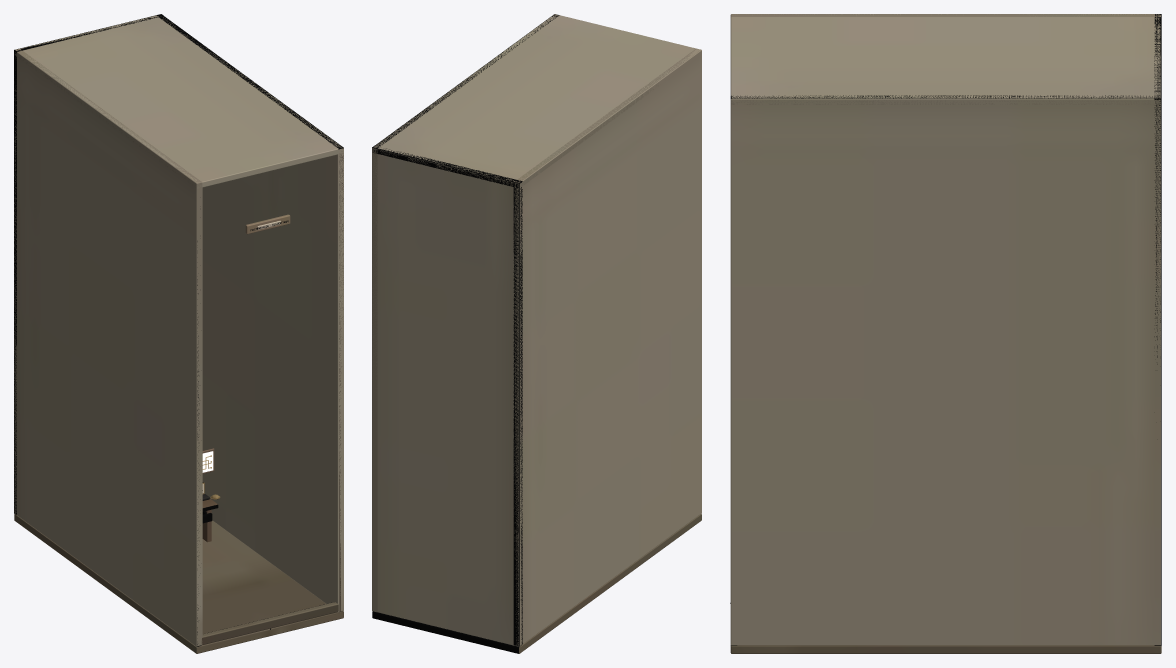
The model's file is exchange.glb.
3 renders of one model, left to right at view 1: azimuth 30°, elevation 25°; view 2: azimuth 150°, elevation 25°; view 3: azimuth 270°, elevation 25°, orthographic. The views are drawn at different scales.
Parts seen in each view (by area): view 1: exchange_envelope, maker_mark_plaque; view 2: exchange_envelope; view 3: exchange_envelope.
Part boxes in pixels (x1=…): exchange_envelope: x1=14, y1=14, x2=343, y2=653; maker_mark_plaque: x1=245, y1=214, x2=290, y2=234; exchange_envelope: x1=372, y1=14, x2=701, y2=653; exchange_envelope: x1=730, y1=14, x2=1161, y2=653.
Bounding box in the file's own units: 4.2 × 12.8 × 9.01.
10 materials, 1 textured.
